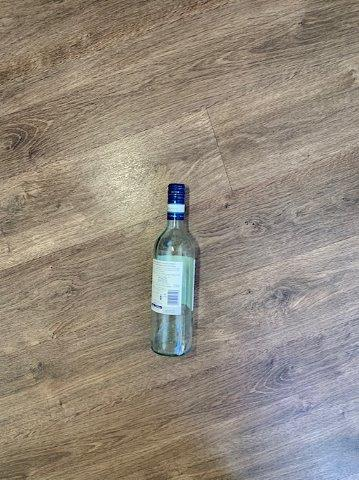botolkaca: (150, 183, 195, 356)
